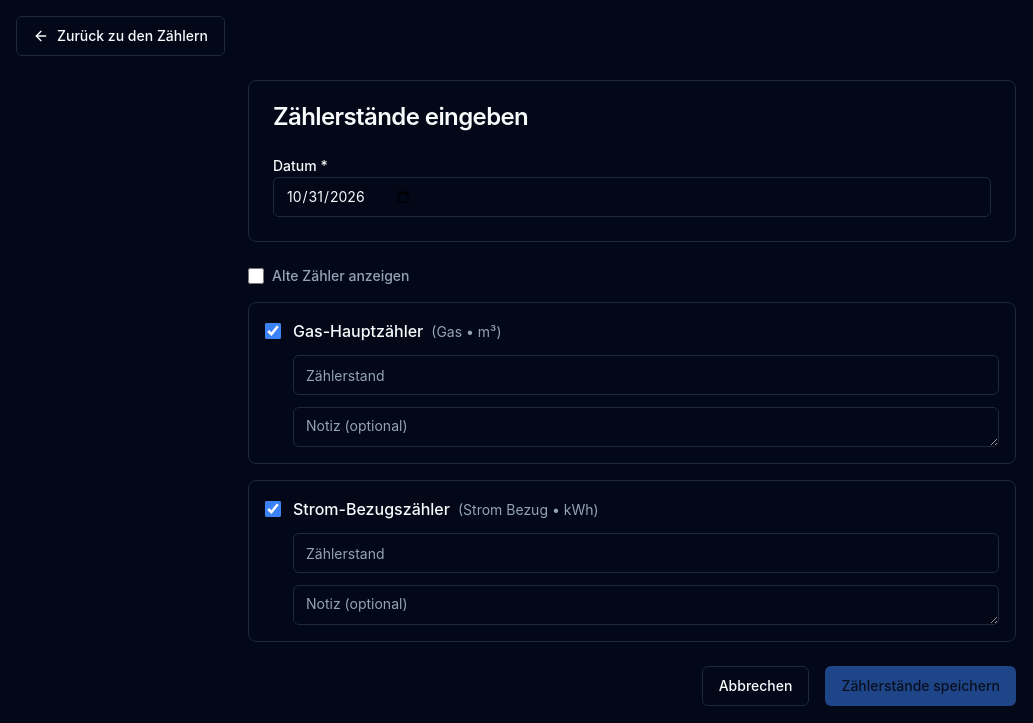
AddReading (Zählerstände eintragen) › shows the backend error message when creating a reading fails
Expected: the date field labelled "Datum *" is shown, x1=273 y1=177 x2=991 y2=217
Type "5" into the number field labelled "Gas-Hauptzähler(Gas • m³)". click: (646, 375)
box: x1=293 y1=355 x2=999 y2=395
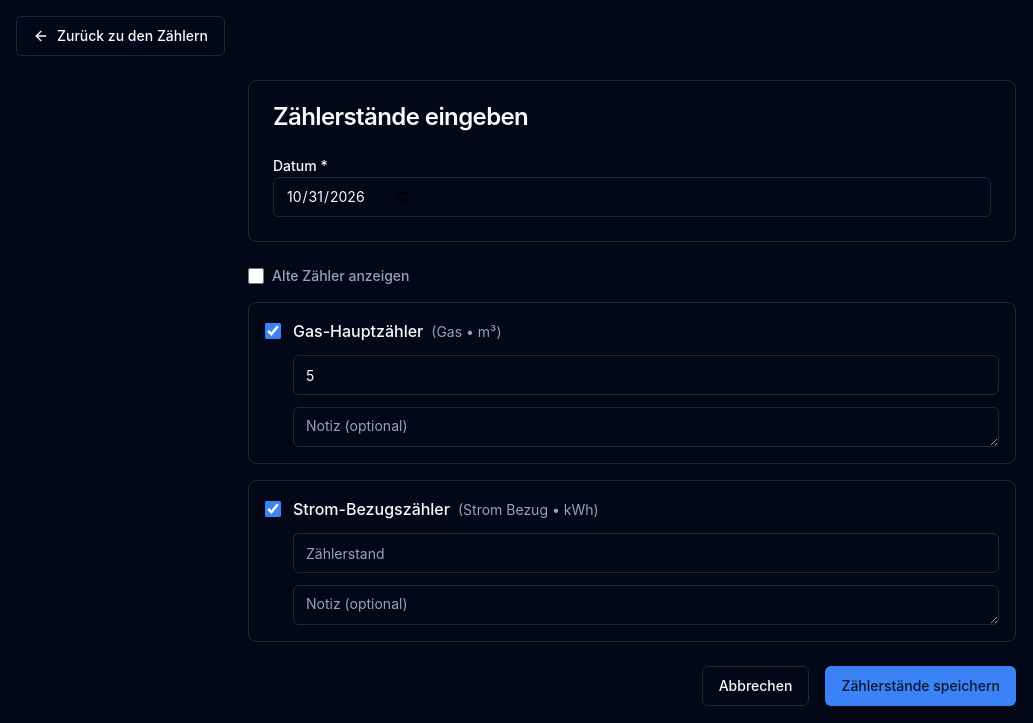
Click the button "Zählerstände speichern". click: (921, 686)
box: x1=826 y1=666 x2=1016 y2=706
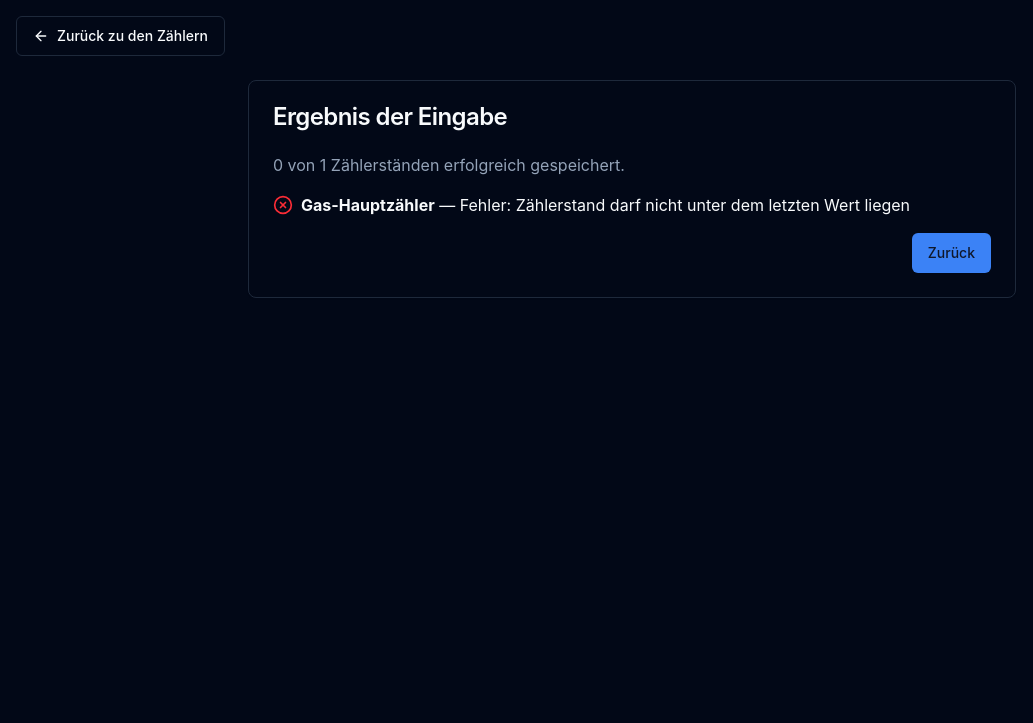
Expected: the heading "Ergebnis der Eingabe" is shown, x1=273 y1=102 x2=507 y2=131
Expected: the text "Fehler: Zählerstand darf nicht unter dem letzten Wert liegen" is shown, x1=435 y1=195 x2=910 y2=215
